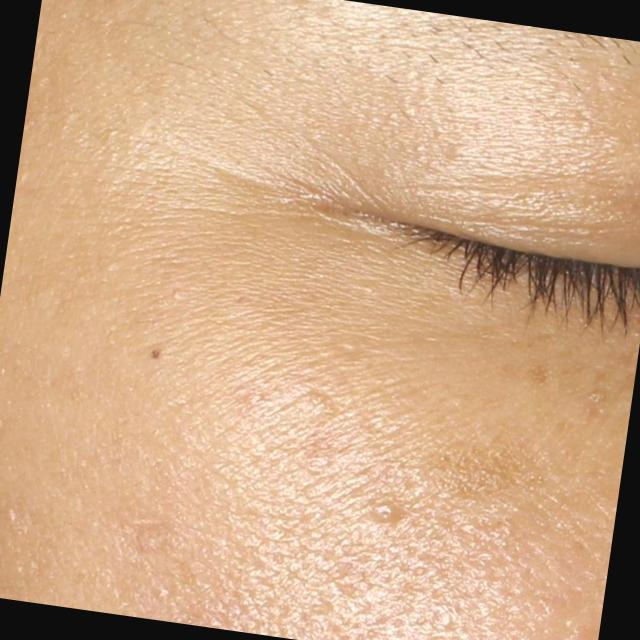blackhead: (147, 347, 166, 363)
